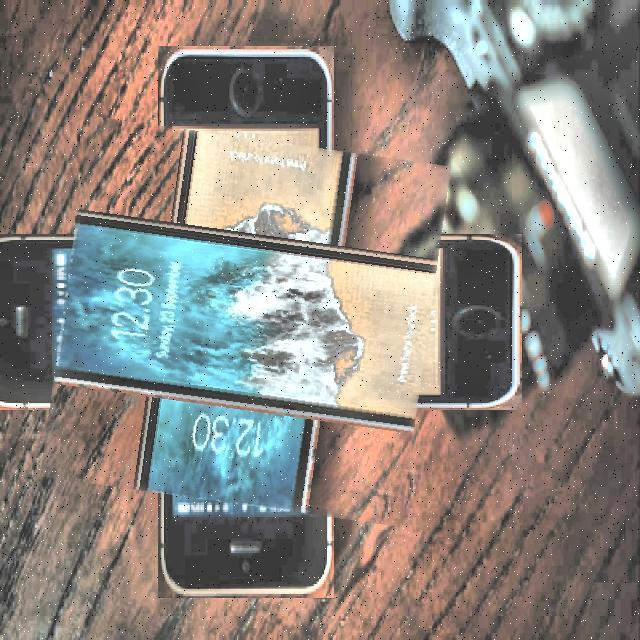Phone: (52, 128, 440, 516)
